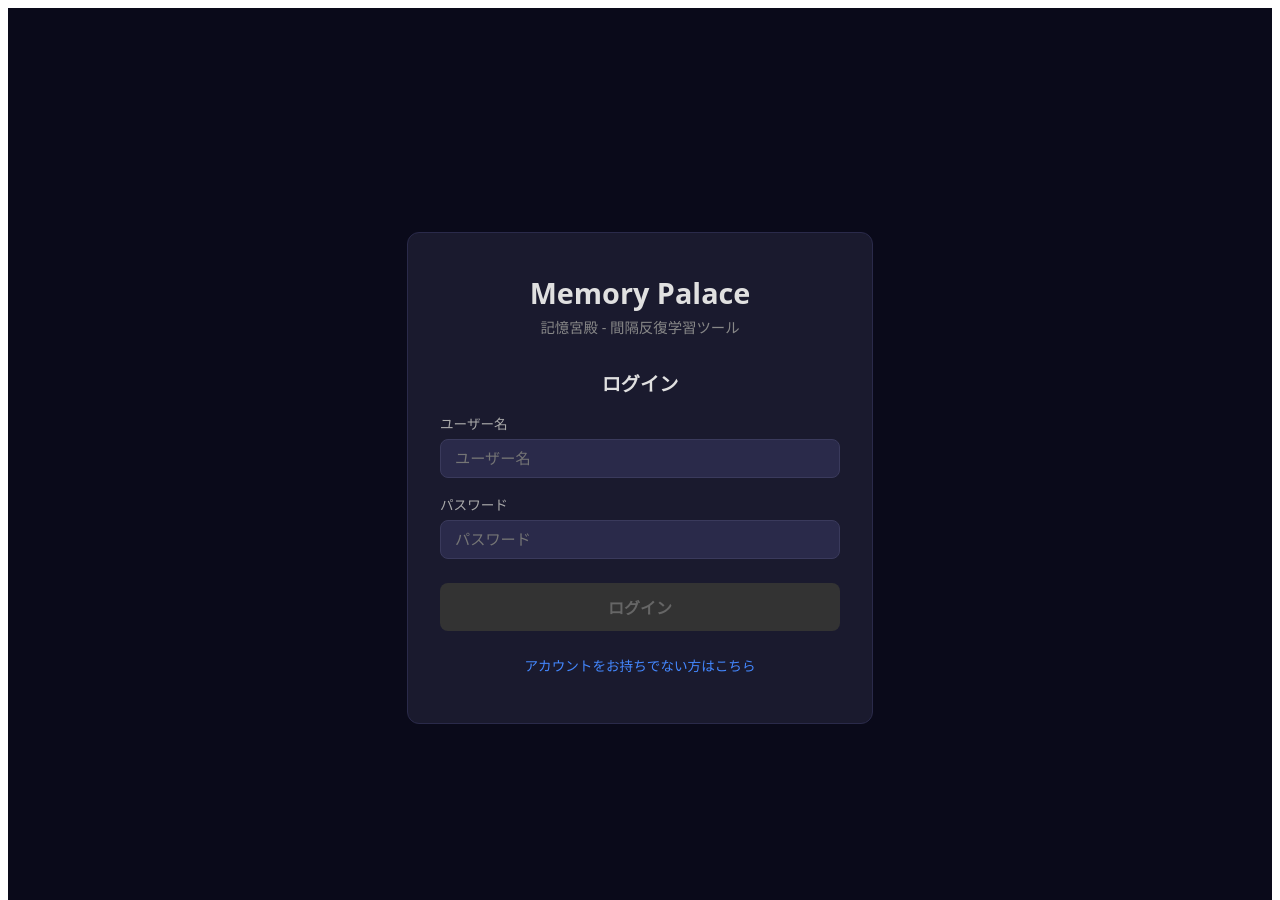
Test: LoginForm › toggles to register form
The width and height of the screenshot is (1280, 900).
Click the button with test id "auth-toggle" at (640, 665), box [440, 647, 840, 683]
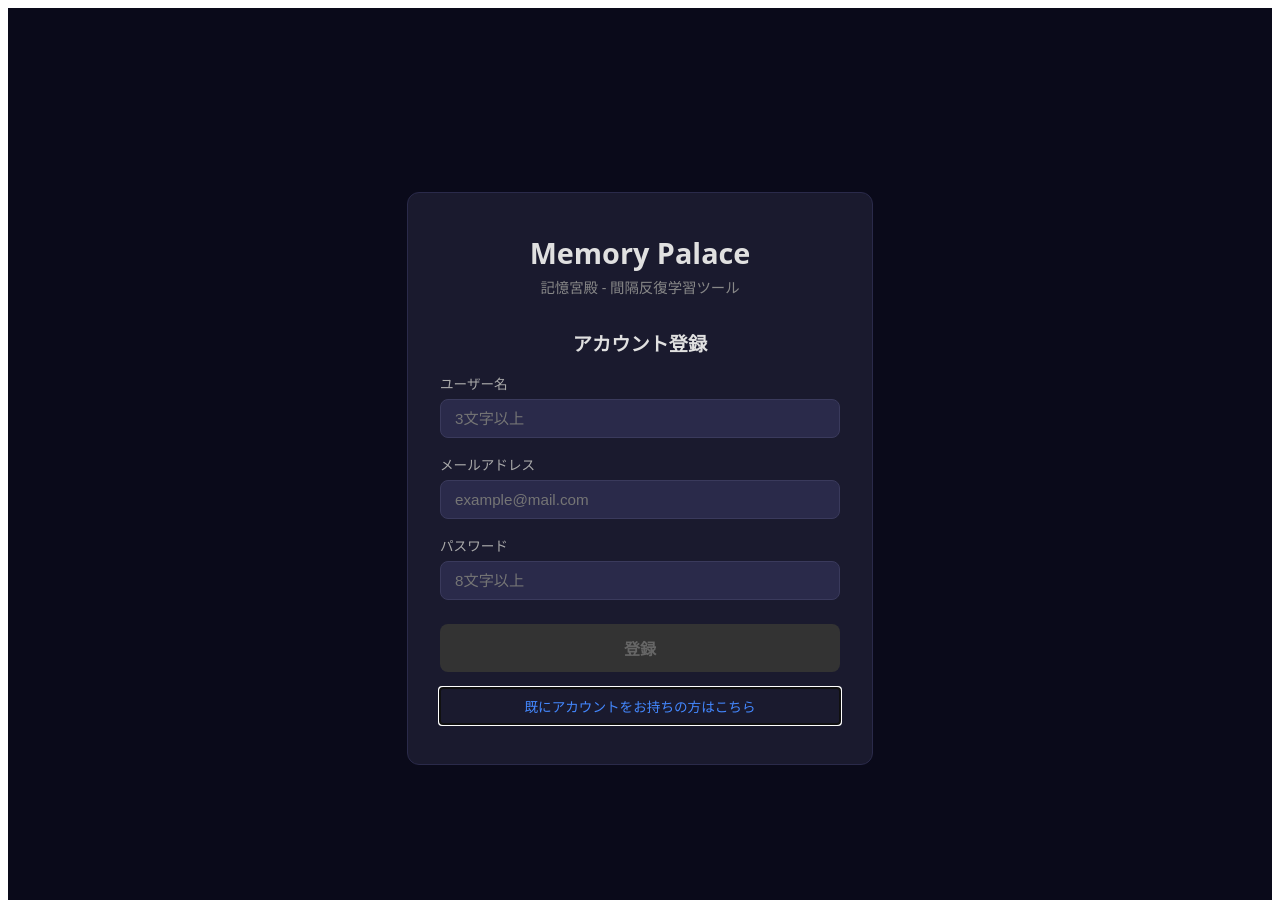
Check: the heading with test id "form-title" reads "アカウント登録", box [573, 330, 707, 356]
Check: the field with test id "auth-email" is shown, box [440, 480, 840, 518]
